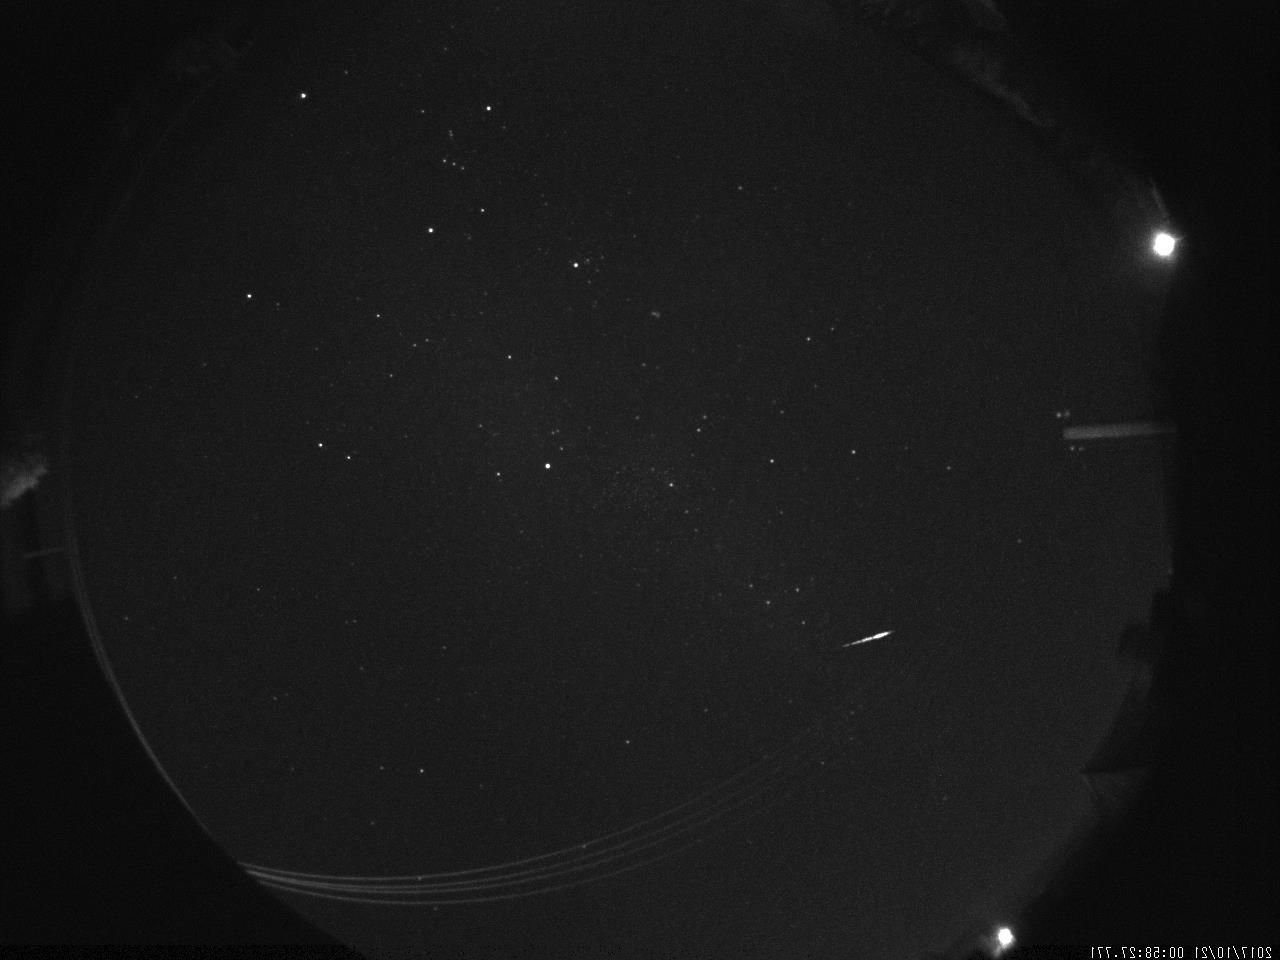meteor: (821, 614, 908, 666)
